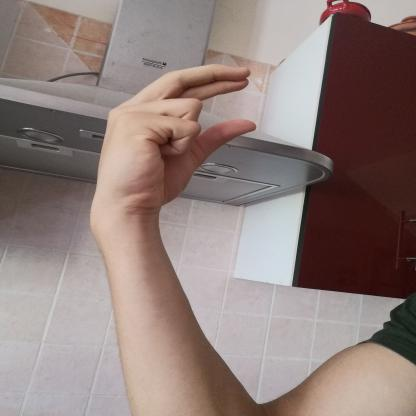DHELL: (82, 55, 269, 221)
